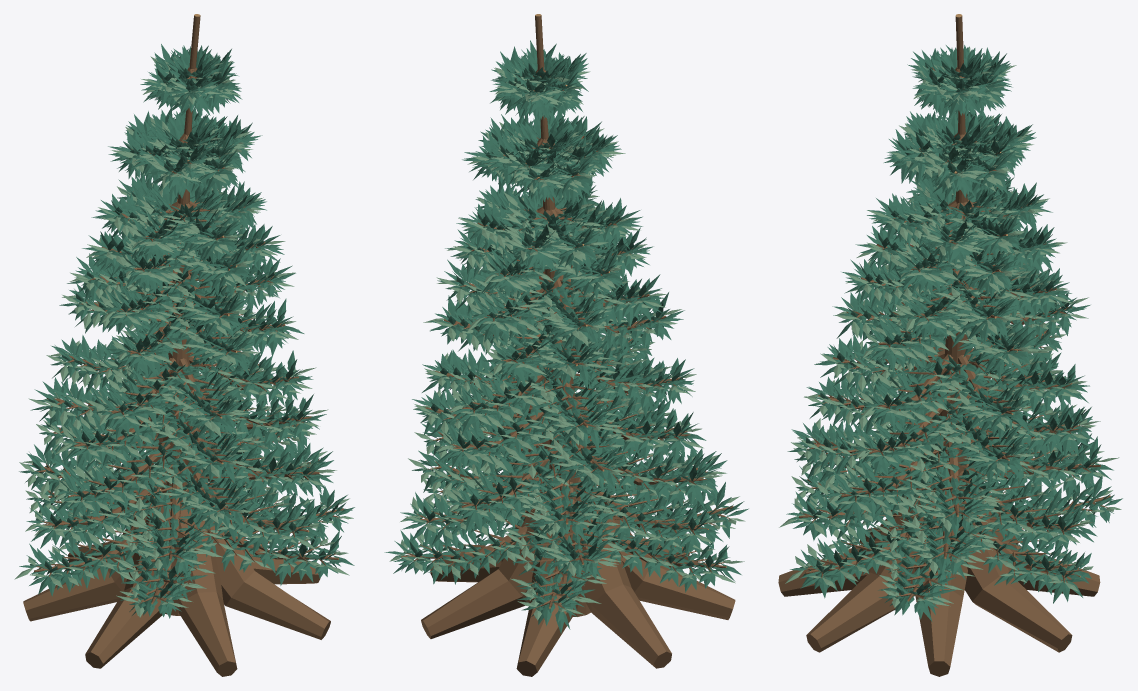
The model's file is young_fir.glb.
3 renders of one model, left to right at view 1: azimuth 30°, elevation 25°; view 2: azimuth 150°, elevation 25°; view 3: azimuth 270°, elevation 25°, orthographic. The views are drawn at different scales.
Visible parts, largest first — view 1: young_fir_detailed.002; view 2: young_fir_detailed.002; view 3: young_fir_detailed.002.
Part boxes in pixels (x1,y1,x2,y2): young_fir_detailed.002: (14,14,354,676); young_fir_detailed.002: (384,14,748,676); young_fir_detailed.002: (778,14,1122,676).
Size of the model in its own units: 2.04 by 3.55 by 1.83.
